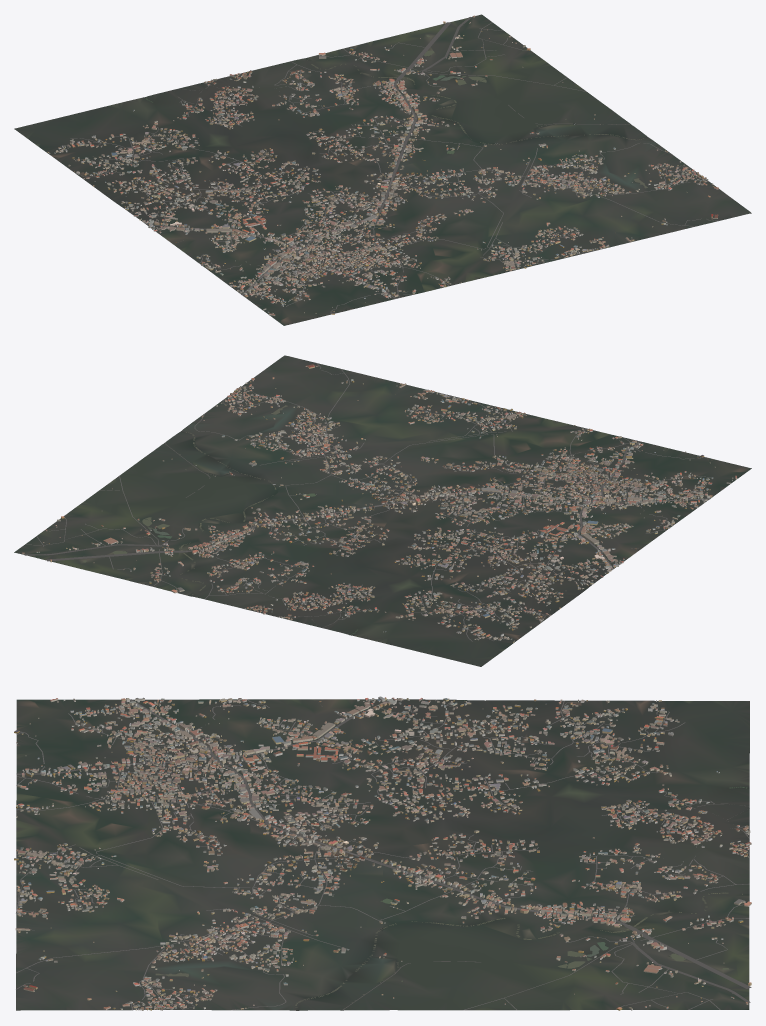
3 renders of one model, top to bottom at view 1: azimuth 30°, elevation 25°; view 2: azimuth 150°, elevation 25°; view 3: azimuth 270°, elevation 25°, orthographic. The views are drawn at different scales.
Parts seen in each view (by area): view 1: ground, buildings, roads, water; view 2: ground, buildings, roads, water; view 3: ground, buildings, roads, water.
Part boxes in pixels (box(x1,y1,x2,y2)): ground: box(14, 14, 751, 325); buildings: box(47, 15, 718, 315); roads: box(60, 17, 719, 314); water: box(145, 35, 647, 188); ground: box(14, 355, 751, 666); buildings: box(22, 364, 737, 642); roads: box(24, 363, 711, 641); water: box(83, 405, 357, 634); ground: box(16, 699, 749, 1010); buildings: box(14, 696, 751, 1010); roads: box(16, 699, 751, 1010); water: box(155, 786, 747, 1008).
Size of the model in its own units: 2816 by 24.98 by 2822.
